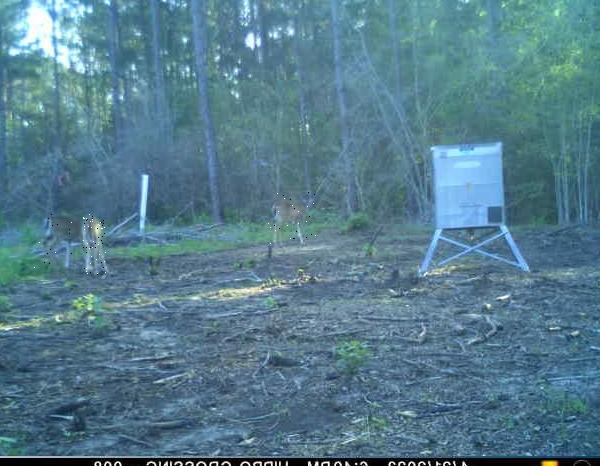Deer: (33, 215, 82, 271), (267, 192, 315, 246), (82, 213, 106, 276)
